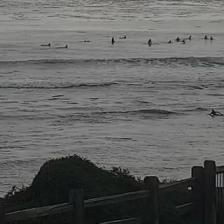surfer: (208, 109, 223, 116), (40, 43, 51, 46), (58, 45, 68, 48), (175, 37, 180, 42), (148, 38, 152, 43), (204, 35, 208, 40), (83, 40, 91, 42), (181, 38, 185, 42), (188, 35, 192, 39), (167, 40, 172, 43), (112, 37, 114, 44), (119, 36, 126, 38), (210, 36, 213, 40)
